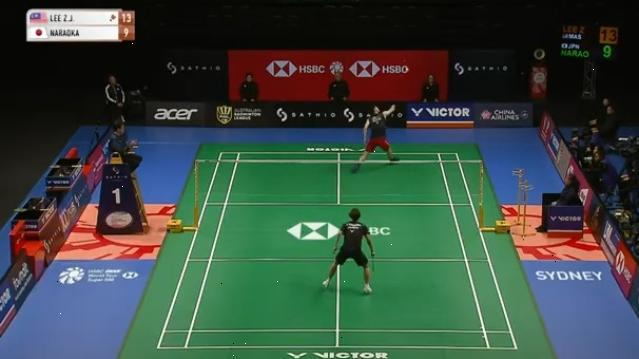Shuttlecock: (404, 64, 410, 74)
